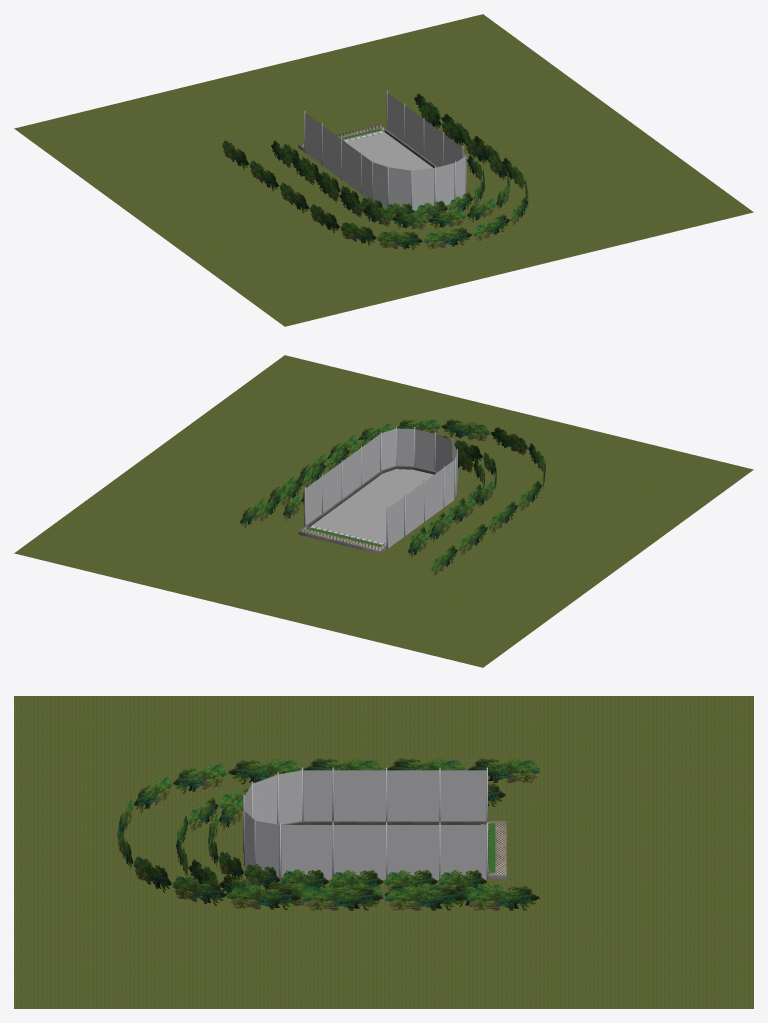
File: golf.fbx
3 renders of one model, top to bottom at view 1: azimuth 30°, elevation 25°; view 2: azimuth 150°, elevation 25°; view 3: azimuth 270°, elevation 25°, orthographic. The views are drawn at different scales.
Parts seen in each view (by area): view 1: Plane, tiewang, treesbj3, treesbj2, treesbj1, water, qiuchang; view 2: Plane, tiewang, treesbj3, water, treesbj2, qiuchang, treesbj1; view 3: Plane, tiewang, treesbj3, treesbj1, treesbj2, qiuchang.
Part boxes in pixels (x1,y1,x2,y2): Plane: [14, 14, 753, 326]; tiewang: [305, 93, 465, 210]; treesbj3: [222, 93, 528, 249]; treesbj2: [271, 104, 509, 229]; treesbj1: [283, 144, 484, 220]; water: [345, 132, 432, 170]; qiuchang: [298, 90, 466, 208]; Plane: [14, 355, 753, 667]; tiewang: [305, 428, 457, 548]; treesbj3: [240, 418, 545, 576]; water: [312, 469, 433, 545]; treesbj2: [258, 435, 496, 557]; qiuchang: [298, 426, 457, 554]; treesbj1: [283, 451, 484, 546]; Plane: [14, 696, 753, 1008]; tiewang: [244, 770, 486, 879]; treesbj3: [117, 758, 540, 910]; treesbj1: [208, 798, 486, 891]; treesbj2: [176, 783, 505, 906]; qiuchang: [243, 767, 506, 880].
Size of the model in its own units: 671 by 61.38 by 671.
8 materials, 7 textured.
